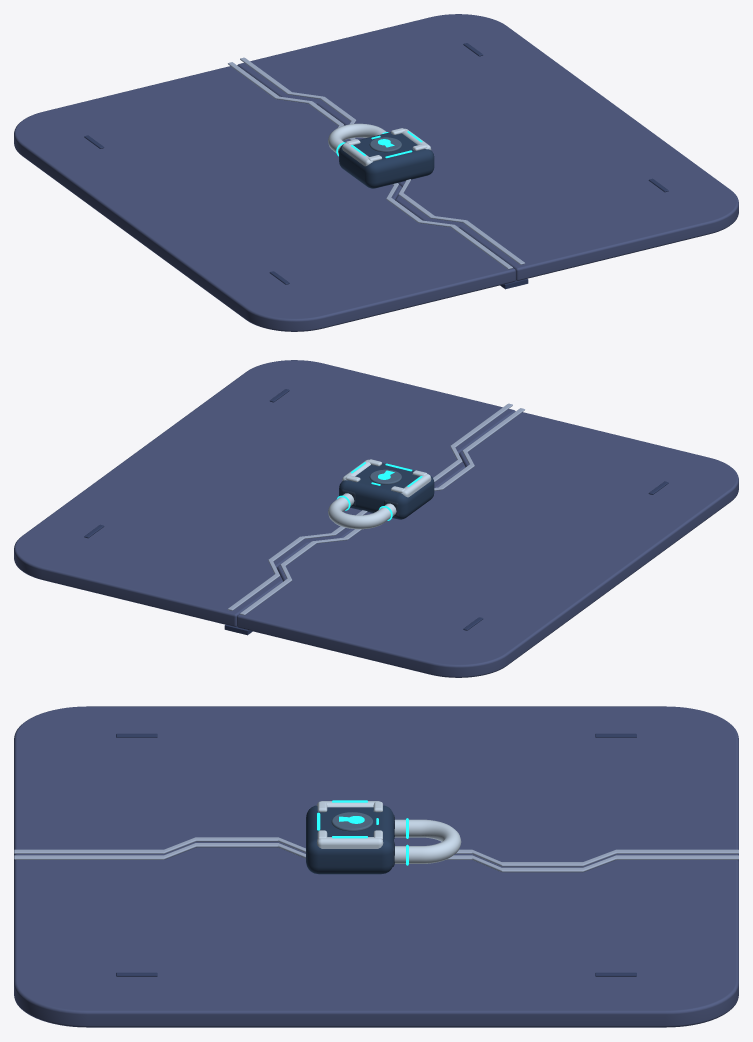
The model's file is AFJ_Simple_Reward_Door.fbx.
3 renders of one model, top to bottom at view 1: azimuth 30°, elevation 25°; view 2: azimuth 150°, elevation 25°; view 3: azimuth 270°, elevation 25°, orthographic. The views are drawn at different scales.
Parts seen in each view (by area): view 1: Left_Panel, Right_Panel, Lock_Body.002, Door_Right_SeamTrim, Door_Left_SeamTrim, Shackle.002; view 2: Left_Panel, Right_Panel, Lock_Body.002, Door_Left_SeamTrim, Door_Right_SeamTrim, Shackle.002; view 3: Right_Panel, Left_Panel, Lock_Body.002, Door_Right_SeamTrim, Door_Left_SeamTrim, Shackle.002, Armor_Side.005, Keyhole_Bezel.002.
Boxes of the visible parts, x1,y1,x2,y2 form: Left_Panel: (14, 66, 515, 331); Right_Panel: (237, 14, 738, 280); Lock_Body.002: (339, 132, 434, 188); Door_Right_SeamTrim: (240, 57, 524, 264); Door_Left_SeamTrim: (228, 62, 512, 269); Shackle.002: (328, 123, 386, 154); Left_Panel: (237, 412, 738, 677); Right_Panel: (14, 360, 515, 626); Lock_Body.002: (339, 463, 434, 519); Door_Left_SeamTrim: (240, 408, 524, 615); Door_Right_SeamTrim: (227, 403, 512, 610); Shackle.002: (328, 493, 396, 529); Right_Panel: (14, 847, 738, 1027); Left_Panel: (14, 706, 738, 869); Lock_Body.002: (306, 805, 393, 874); Door_Right_SeamTrim: (14, 843, 738, 872); Door_Left_SeamTrim: (14, 837, 738, 866); Shackle.002: (394, 819, 461, 863); Armor_Side.005: (317, 837, 383, 848); Keyhole_Bezel.002: (331, 812, 373, 831).
Bounding box in the file's own units: 590 × 56.04 × 590.
